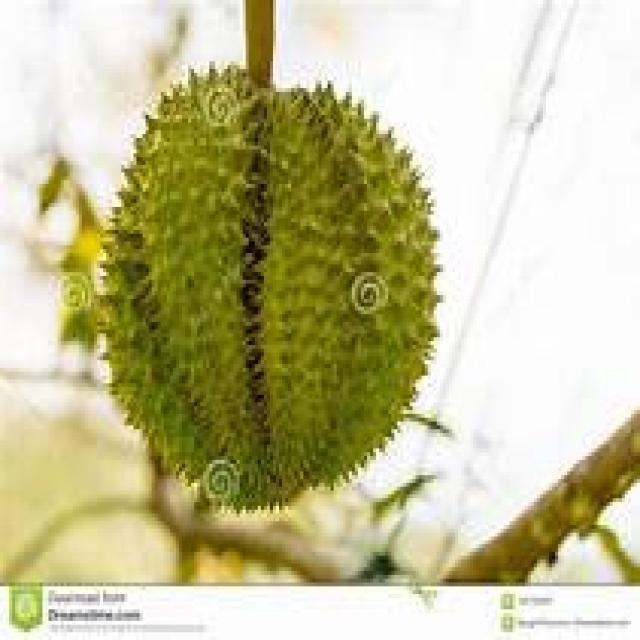immature: (97, 61, 445, 516)
